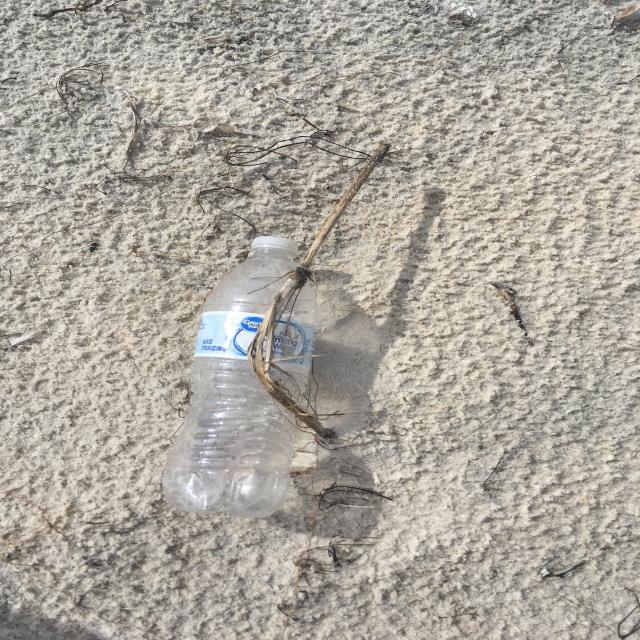litter: (311, 240, 640, 359)
